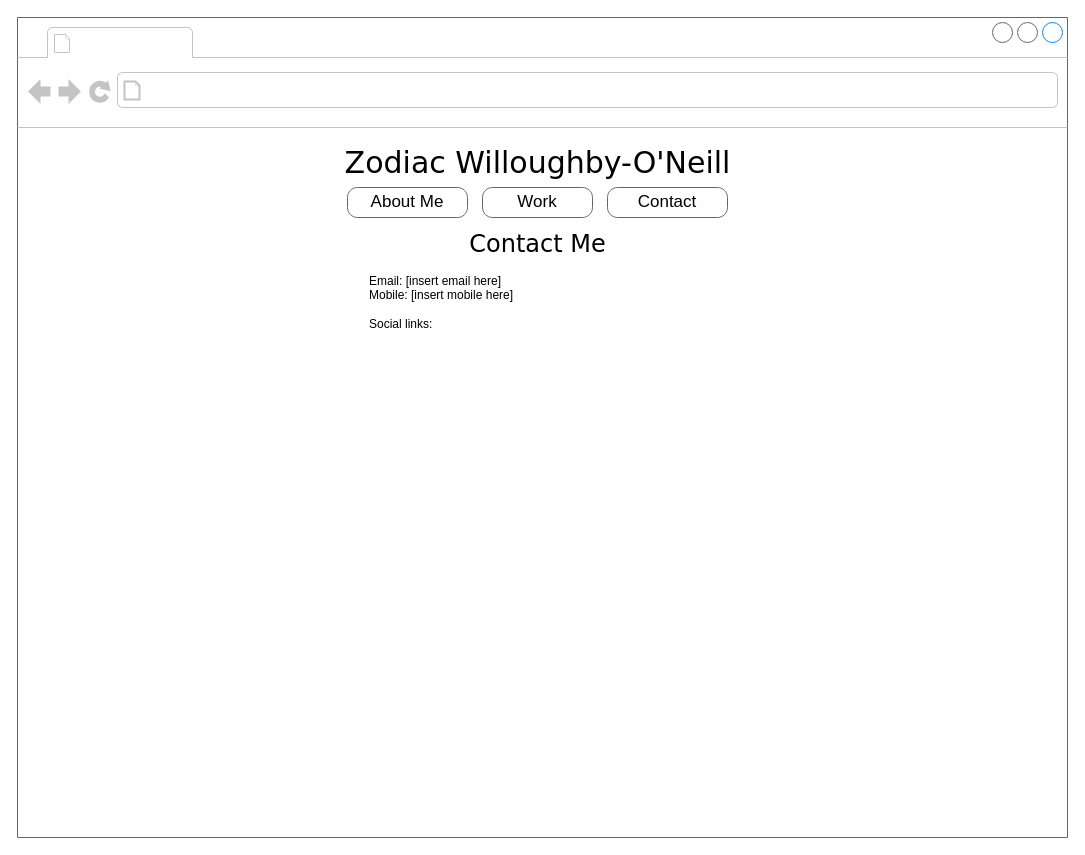
This 1085x855 diagram has some shape labels left out. Here are the shapes that lost their labels. From the top down, the centre of each, then its label:
At point (132, 42): "Page 1".
At point (272, 90): "https://www.default.com".
